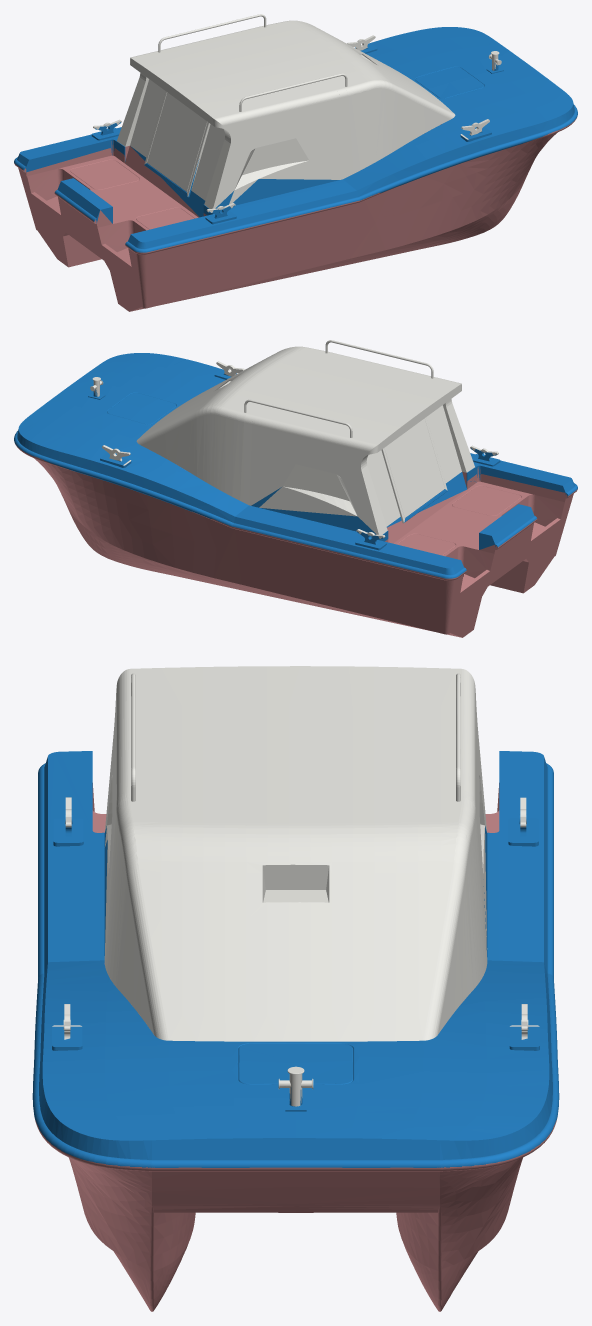
Rendered from M5_body_colored.dae.
3 renders of one model, top to bottom at view 1: azimuth 30°, elevation 25°; view 2: azimuth 150°, elevation 25°; view 3: azimuth 270°, elevation 25°, orthographic. The views are drawn at different scales.
Parts seen in each view (by area): view 1: 520型船; view 2: 520型船; view 3: 520型船.
Boxes of the visible parts, bbox=[...] form: 520型船: bbox=[14, 14, 577, 311]; 520型船: bbox=[14, 340, 577, 637]; 520型船: bbox=[32, 666, 559, 1311].
Size of the model in its own units: 5.26 by 2.62 by 2.2.
